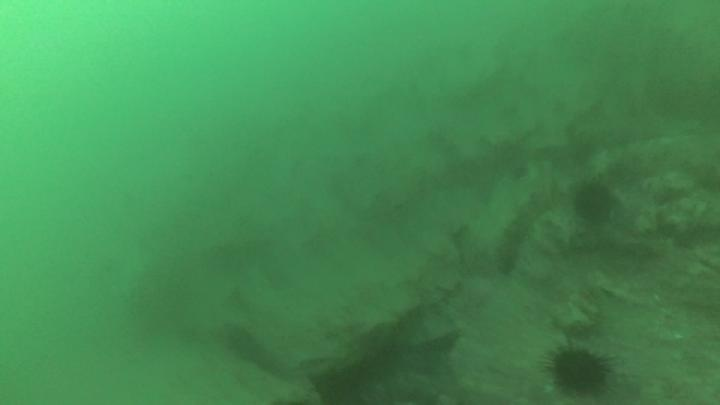echinus: (542, 339, 615, 400), (570, 178, 616, 225)
